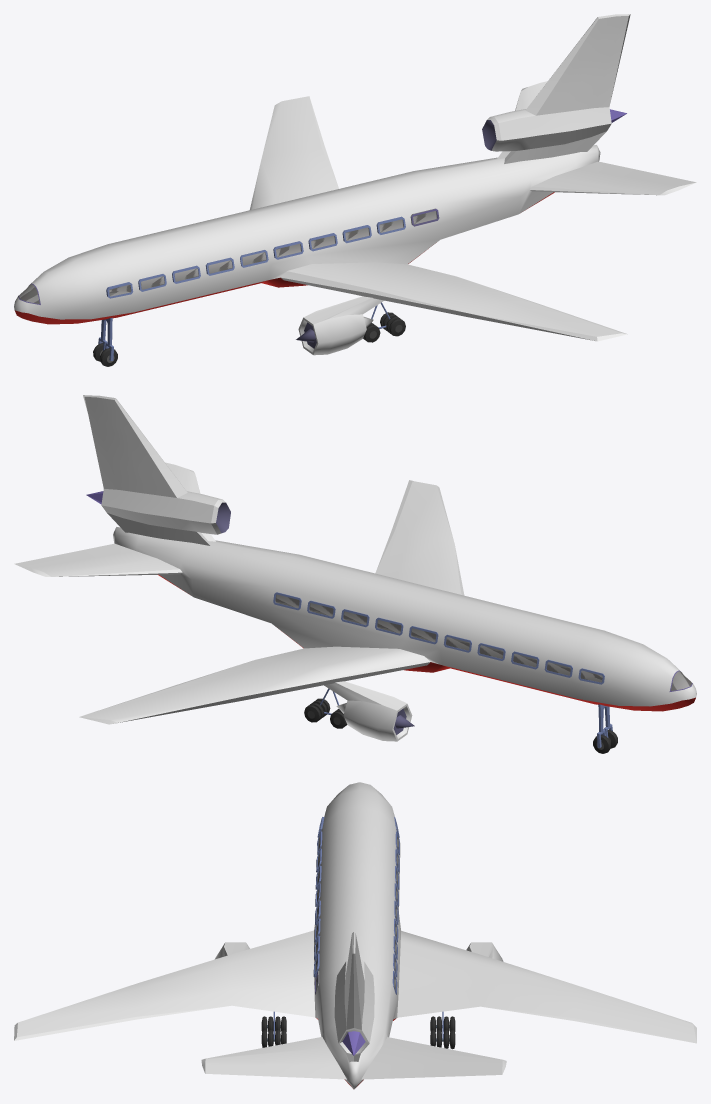
3 views of the same model, one above another, from view 1: azimuth 30°, elevation 25°; view 2: azimuth 150°, elevation 25°; view 3: azimuth 270°, elevation 25° (orthographic). The views are drawn at different scales.
Parts seen in each view (by area): view 1: Plane_3_E; view 2: Plane_3_E; view 3: Plane_3_E.
Part boxes in pixels (<box>): Plane_3_E: <box>14,14,696,366</box>; Plane_3_E: <box>14,395,696,753</box>; Plane_3_E: <box>14,782,696,1089</box>.
Size of the model in its own units: 2712 by 969 by 2481.
